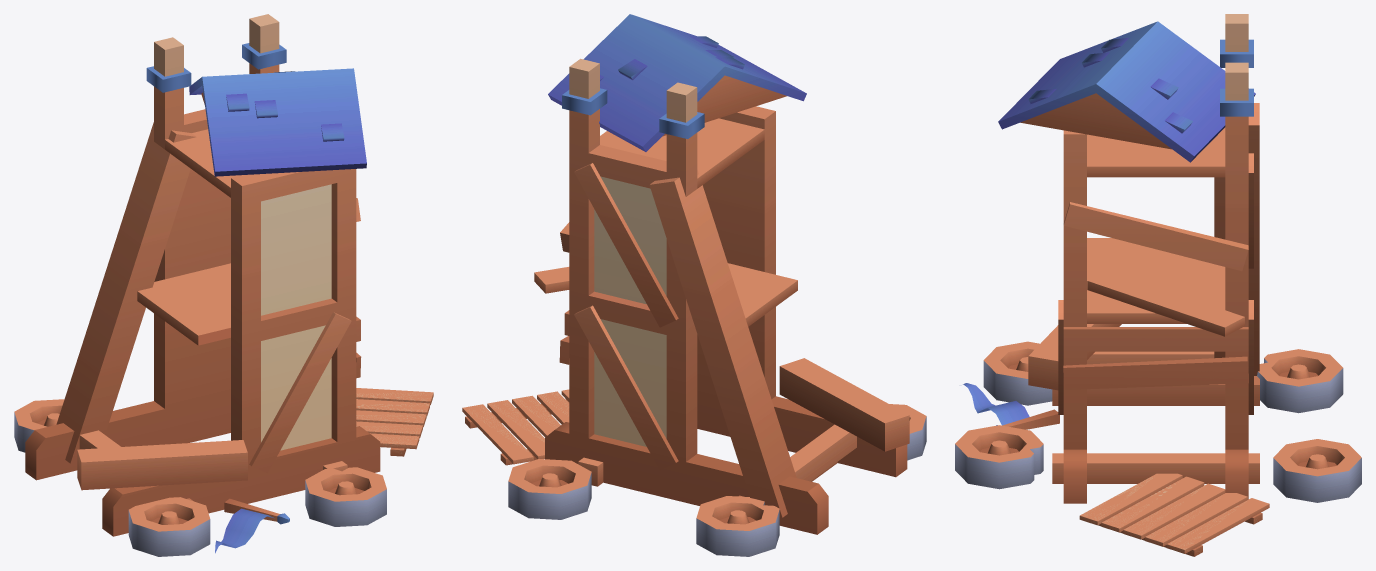
The model's file is siege-tower-demolished.glb.
3 views of the same model, side by side, from view 1: azimuth 30°, elevation 25°; view 2: azimuth 150°, elevation 25°; view 3: azimuth 270°, elevation 25° (orthographic). The views are drawn at different scales.
Parts seen in each view (by area): view 1: siege-tower-demolished; view 2: siege-tower-demolished; view 3: siege-tower-demolished.
Boxes of the visible parts, box(x1,y1,x2,y2) form: siege-tower-demolished: box(14, 14, 433, 556); siege-tower-demolished: box(462, 14, 926, 556); siege-tower-demolished: box(955, 14, 1361, 556).
Bounding box in the file's own units: 2.17 × 2.1 × 1.85.
1 material, 1 textured.
